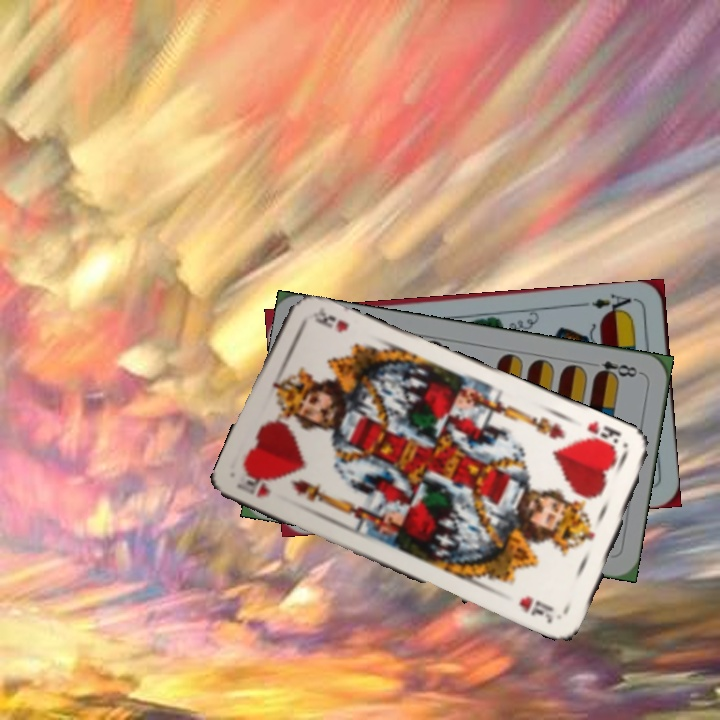E8: (585, 356, 644, 382)
EA: (588, 289, 639, 317)
HK: (575, 417, 624, 455), (234, 475, 274, 500)
